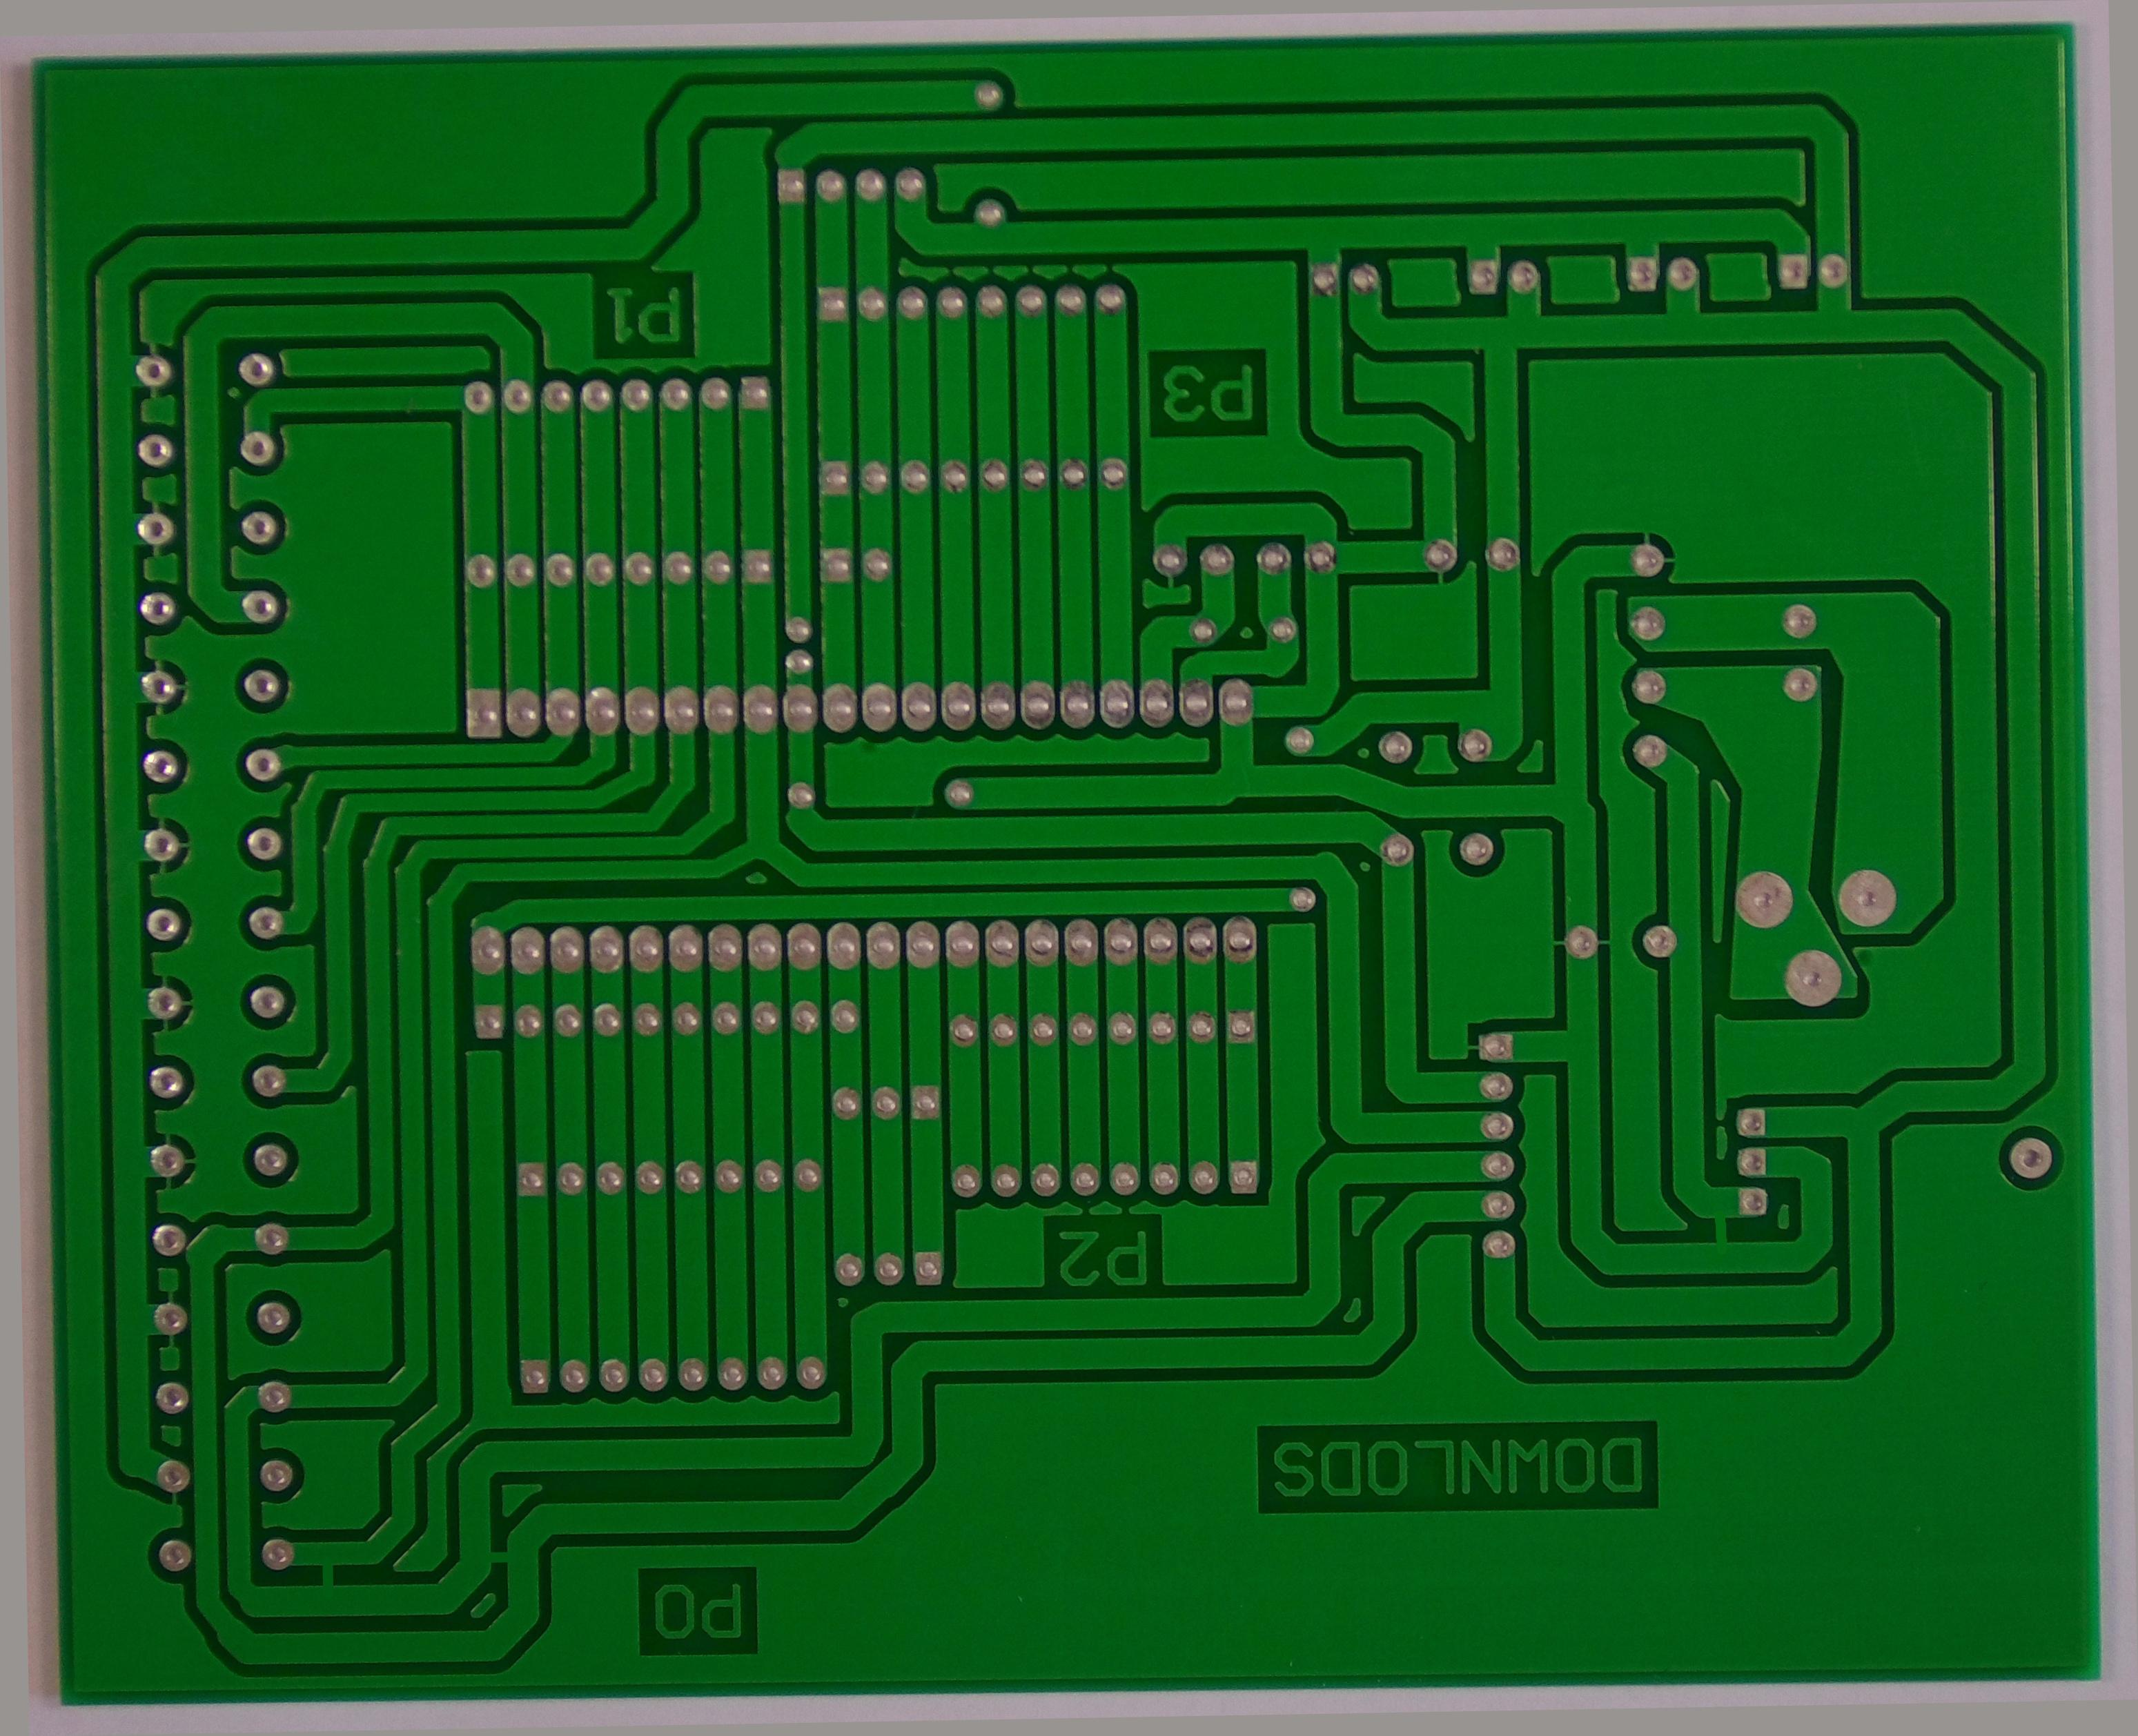short: (1679, 1176, 1761, 1265), (285, 1532, 360, 1612), (461, 1522, 528, 1589)
